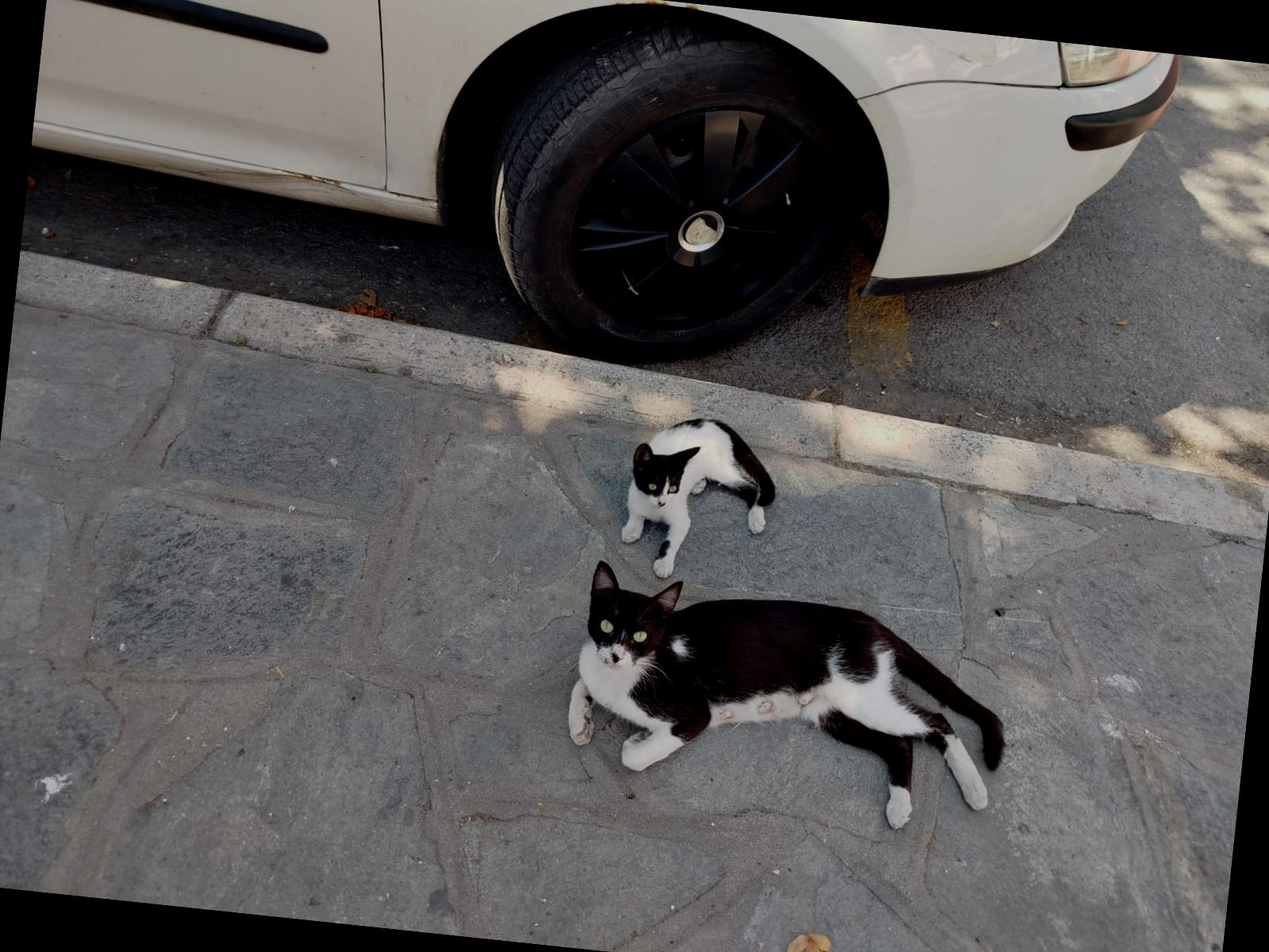macka: (559, 558, 1020, 839), (615, 409, 784, 590)
